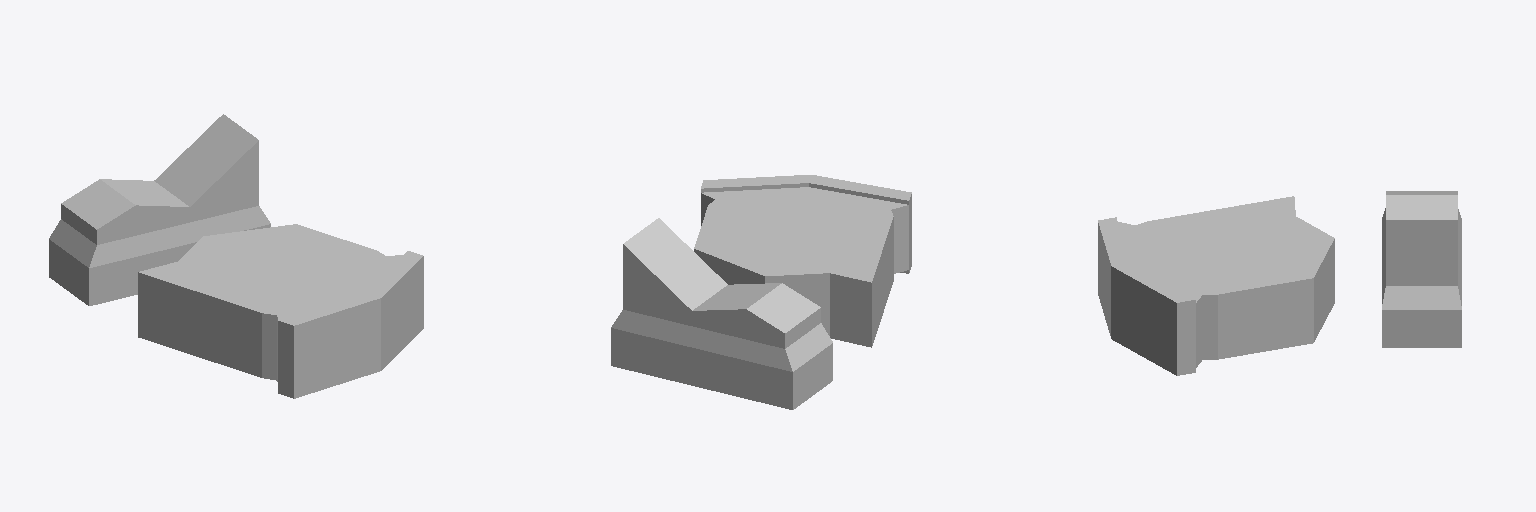
File: gravestoneDebris.obj
3 renders of one model, left to right at view 1: azimuth 30°, elevation 25°; view 2: azimuth 150°, elevation 25°; view 3: azimuth 270°, elevation 25°, orthographic.
Parts seen in each view (by area): view 1: gravestoneDebris; view 2: gravestoneDebris; view 3: gravestoneDebris.
Boxes of the visible parts, x1,y1,x2,y2 form: gravestoneDebris: [49, 114, 423, 398]; gravestoneDebris: [611, 175, 911, 409]; gravestoneDebris: [1098, 191, 1461, 375].
Bounding box in the file's own units: 0.4968 × 0.2592 × 0.6751.